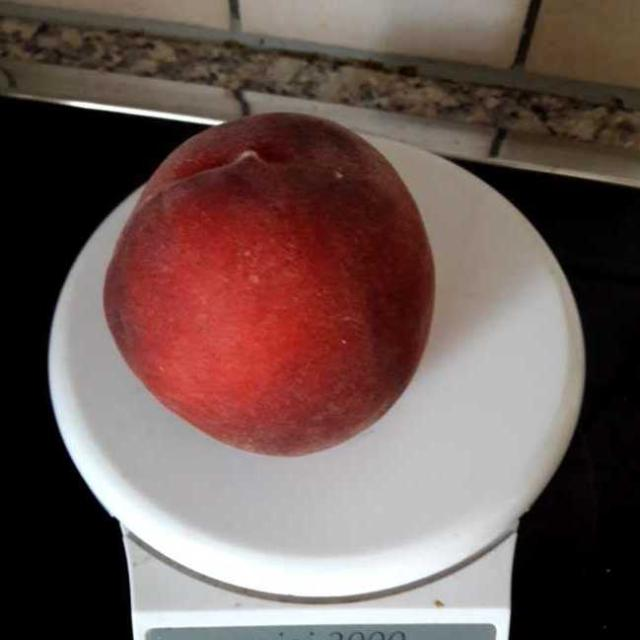peach: (107, 118, 430, 443)
